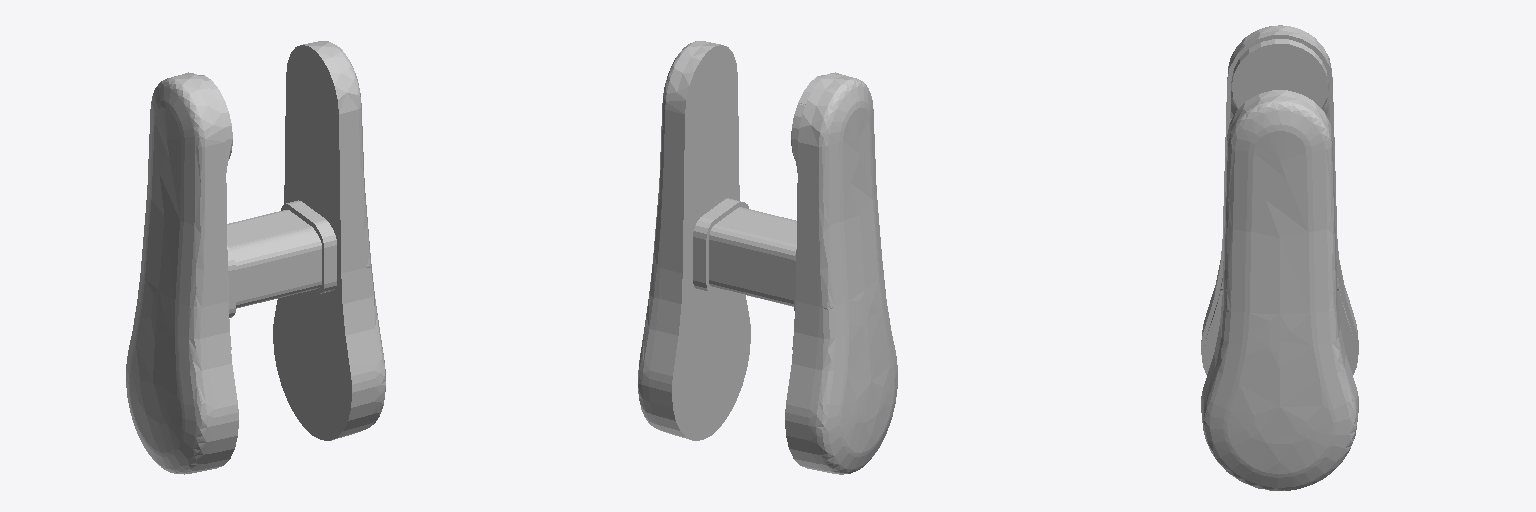
Rendered from irb120joint2.obj.
3 views of the same model, side by side, from view 1: azimuth 30°, elevation 25°; view 2: azimuth 150°, elevation 25°; view 3: azimuth 270°, elevation 25° (orthographic).
Parts seen in each view (by area): view 1: irb120joint2; view 2: irb120joint2; view 3: irb120joint2.
Part boxes in pixels (left/top/right/bottom): irb120joint2: left=126, top=41, right=385, bottom=474; irb120joint2: left=638, top=41, right=897, bottom=474; irb120joint2: left=1201, top=25, right=1358, bottom=490.
Size of the model in its own units: 10.94 by 19.52 by 7.24.